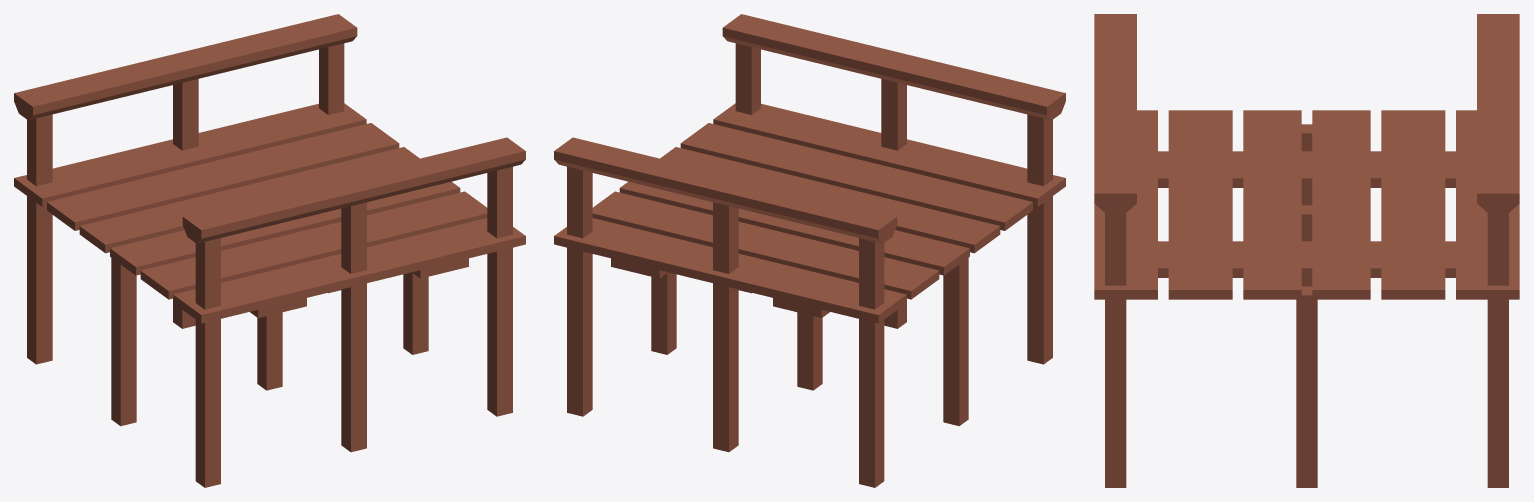
Rendered from scaffold_medium_railing 1.fbx.
The picture shows the model from 3 angles, left to right: view 1: azimuth 30°, elevation 25°; view 2: azimuth 150°, elevation 25°; view 3: azimuth 270°, elevation 25°; orthographic projection. The views are drawn at different scales.
Visible parts, largest first — view 1: scaffold_medium_railing; view 2: scaffold_medium_railing; view 3: scaffold_medium_railing.
Boxes of the visible parts, x1=… form: scaffold_medium_railing: x1=14, y1=14, x2=525, y2=487; scaffold_medium_railing: x1=554, y1=14, x2=1065, y2=487; scaffold_medium_railing: x1=1094, y1=14, x2=1519, y2=487.
Size of the model in its own units: 400 by 310 by 400.
